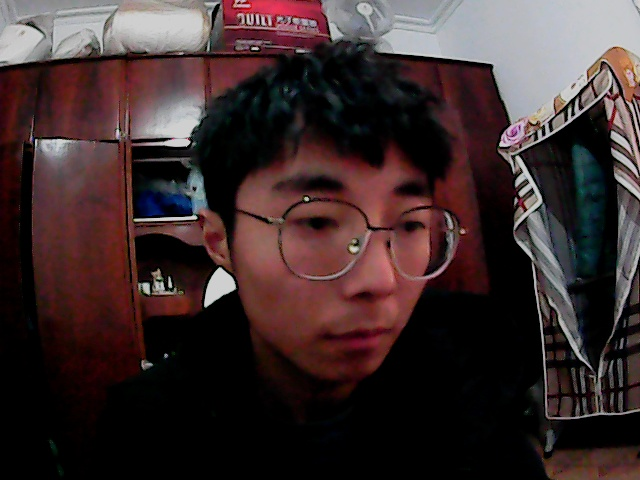face: (176, 40, 475, 388)
